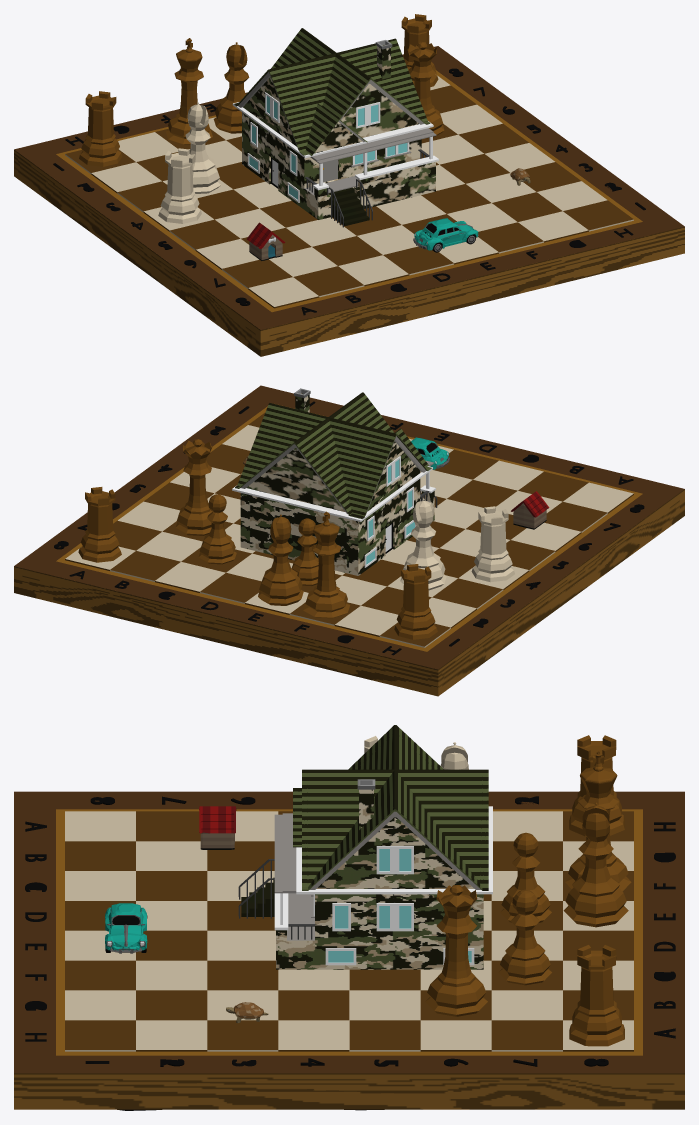
3 renders of one model, top to bottom at view 1: azimuth 30°, elevation 25°; view 2: azimuth 150°, elevation 25°; view 3: azimuth 270°, elevation 25°, orthographic. The views are drawn at different scales.
Parts seen in each view (by area): view 1: Cube.002, Cube.001, VEHICLES_VOLKSWAGEN, OBJRANDOM_DOGHOUSE; view 2: Cube.002, Cube.001, OBJRANDOM_DOGHOUSE, VEHICLES_VOLKSWAGEN; view 3: Cube.002, Cube.001, VEHICLES_VOLKSWAGEN, OBJRANDOM_DOGHOUSE.
Boxes of the visible parts, x1,y1,x2,y2 form: Cube.002: (14,14,684,356); Cube.001: (232,28,438,227); VEHICLES_VOLKSWAGEN: (413,218,478,252); OBJRANDOM_DOGHOUSE: (247,222,285,260); Cube.002: (14,385,684,696); Cube.001: (232,388,437,575); OBJRANDOM_DOGHOUSE: (511,491,549,529); VEHICLES_VOLKSWAGEN: (411,437,449,469); Cube.002: (14,735,684,1109); Cube.001: (238,725,492,969); VEHICLES_VOLKSWAGEN: (105,903,147,953); OBJRANDOM_DOGHOUSE: (199,806,236,849).
Size of the model in its own units: 3981 by 1461 by 4012.
Materials: 39 (4 with a texture image).
